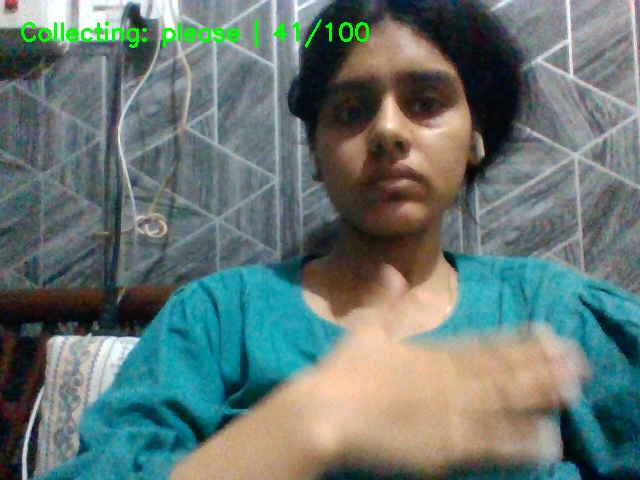please: (288, 266, 603, 480)
